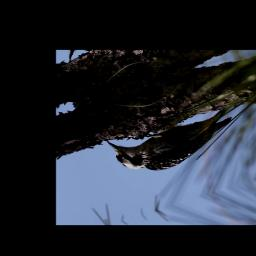Woodpecker: (98, 98, 252, 188)
